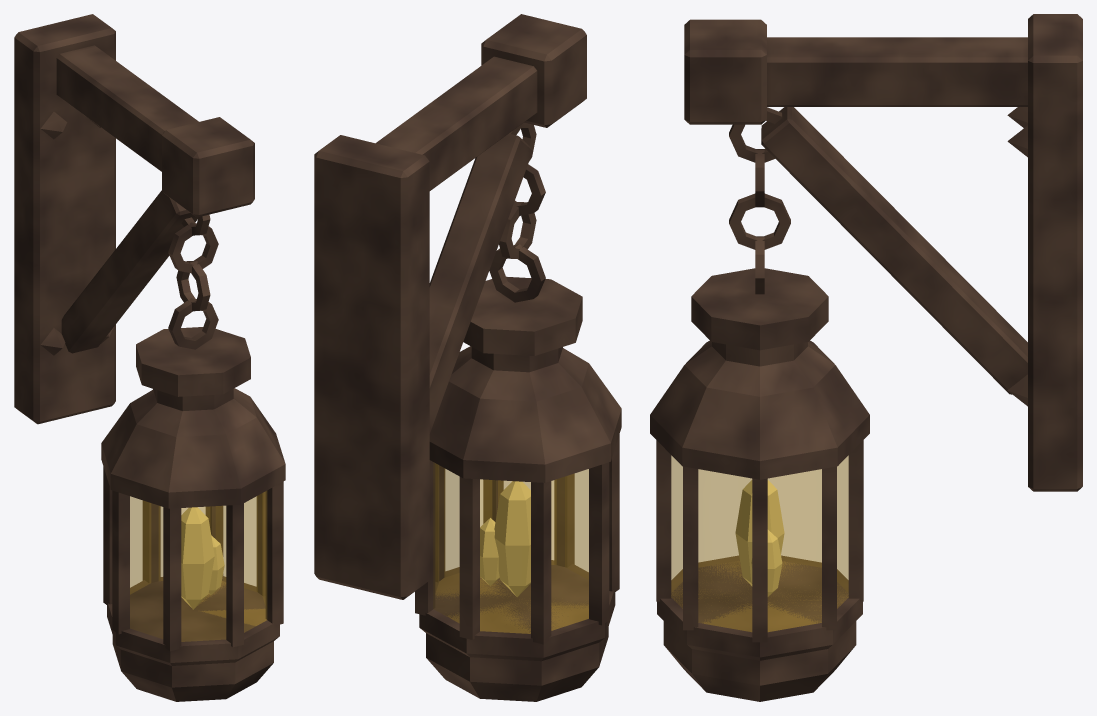
The model's file is wall_lantern_01.glb.
3 views of the same model, side by side, from view 1: azimuth 30°, elevation 25°; view 2: azimuth 150°, elevation 25°; view 3: azimuth 270°, elevation 25° (orthographic). The views are drawn at different scales.
Visible parts, largest first — view 1: wall_lantern_01; view 2: wall_lantern_01; view 3: wall_lantern_01.
Boxes of the visible parts, bbox=[...] form: wall_lantern_01: bbox=[14, 14, 285, 701]; wall_lantern_01: bbox=[314, 14, 621, 701]; wall_lantern_01: bbox=[650, 14, 1082, 701].
Bounding box in the file's own units: 0.32 × 1.02 × 0.63.
3 materials, 3 textured.
